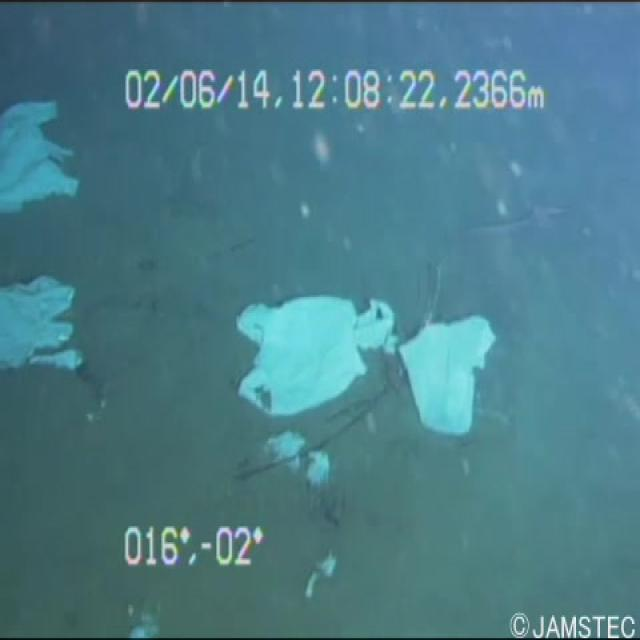plastic: (221, 276, 400, 414), (0, 78, 92, 230), (400, 290, 495, 437), (0, 251, 92, 377)
